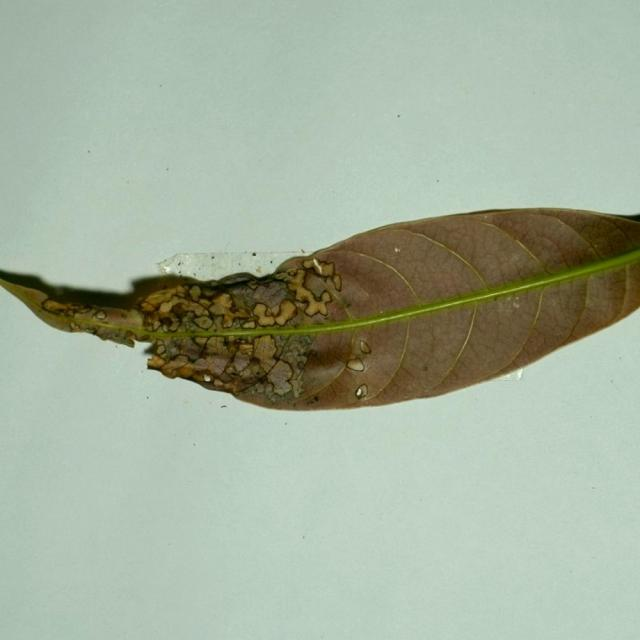Anthracnose: (167, 353, 303, 403), (143, 283, 237, 330), (238, 279, 294, 320), (342, 338, 374, 394), (170, 338, 207, 363), (94, 325, 135, 345)
Mango: (0, 208, 639, 415)
